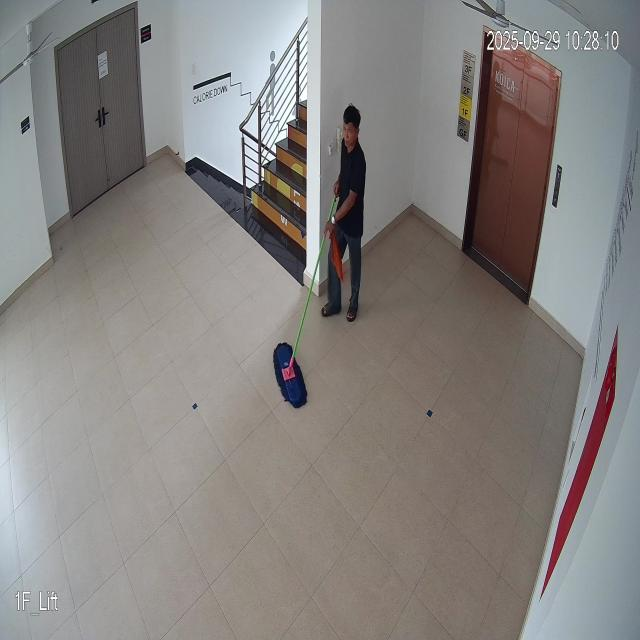face: (338, 102, 364, 155)
